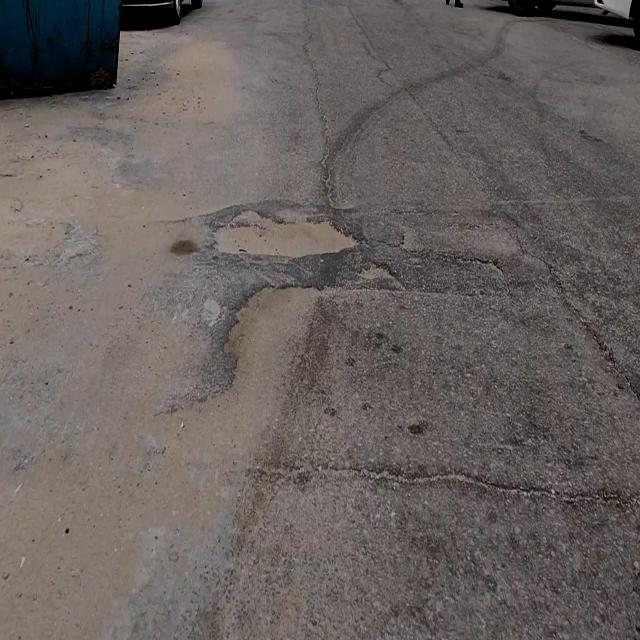Potholes: (214, 209, 357, 260)
